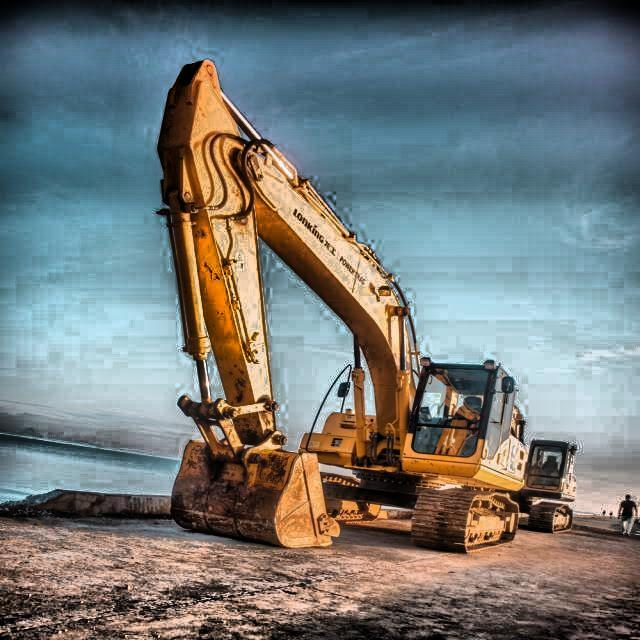excavator: (154, 58, 536, 553)
